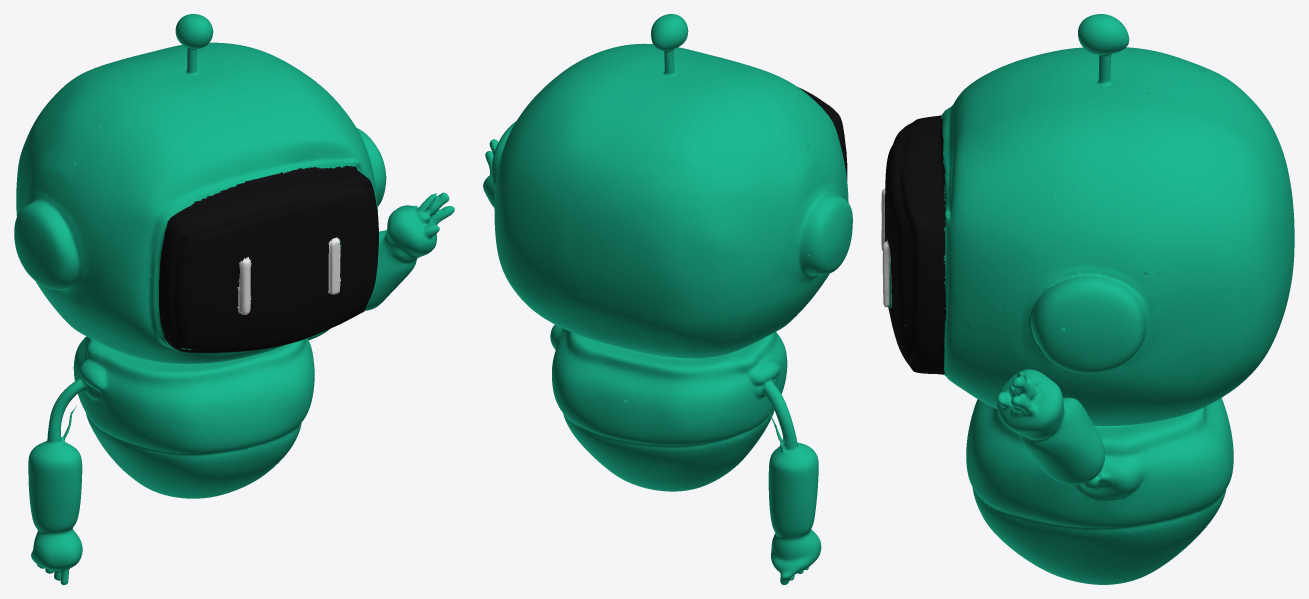
File: bot.glb
The picture shows the model from 3 angles, left to right: view 1: azimuth 30°, elevation 25°; view 2: azimuth 150°, elevation 25°; view 3: azimuth 270°, elevation 25°; orthographic projection. The views are drawn at different scales.
Visible parts, largest first — view 1: Mesh_0; view 2: Mesh_0; view 3: Mesh_0.
Boxes of the visible parts, left/top/right/bottom form: Mesh_0: left=14, top=14, right=454, bottom=584; Mesh_0: left=483, top=14, right=852, bottom=584; Mesh_0: left=881, top=14, right=1294, bottom=584.
Bounding box in the file's own units: 1.42 × 1.84 × 1.1.
